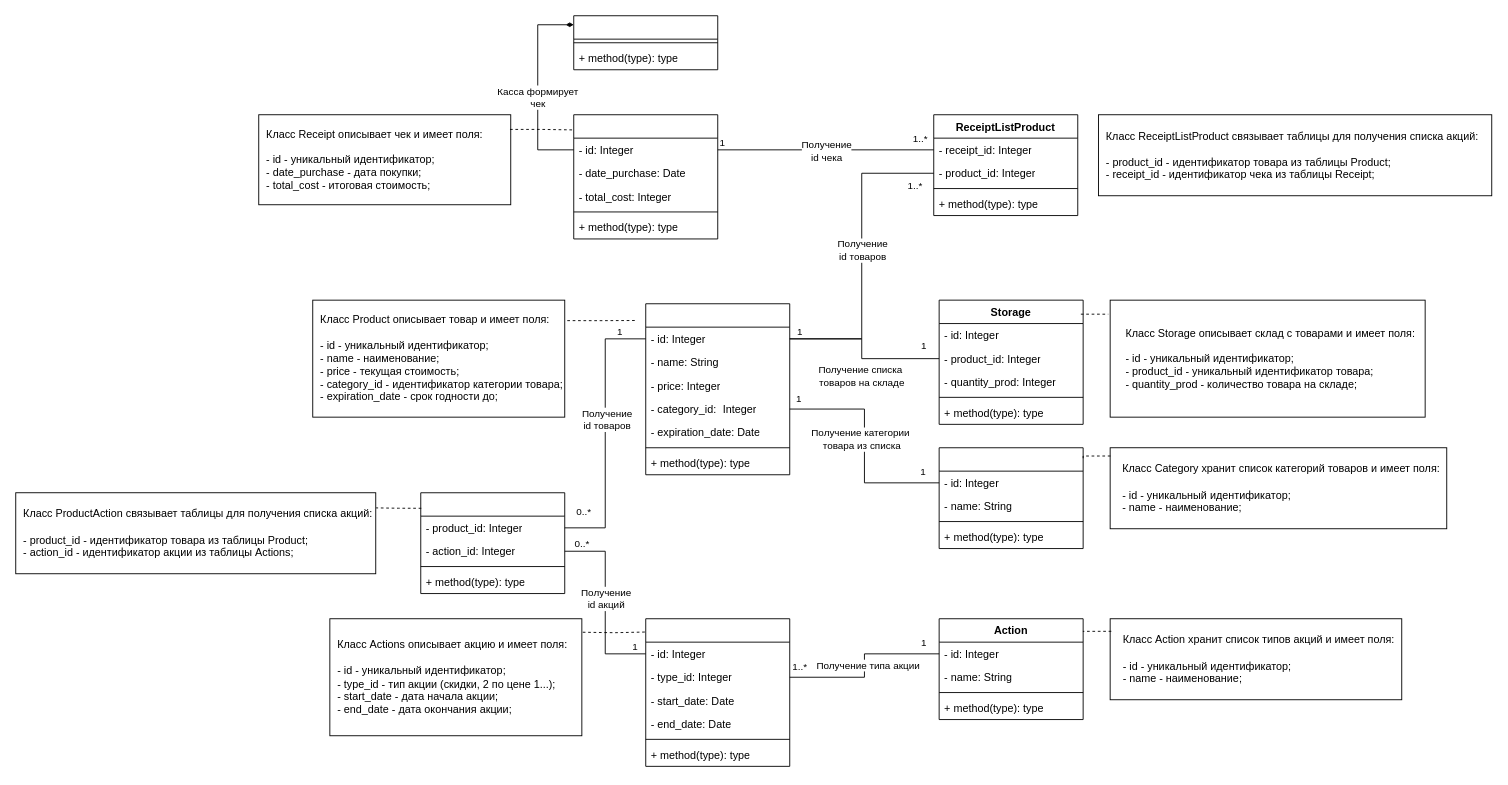
This 1508x785 diagram has some shape labels left out. The box of each missing label's shape, as (x1, y1, x2, y2) in pixels:
Actions: (645, 618, 790, 766)
CashRegister: (573, 15, 718, 70)
Category: (938, 447, 1083, 549)
Product: (645, 303, 790, 475)
ProductAction: (420, 492, 565, 594)
Receipt: (573, 114, 718, 239)
